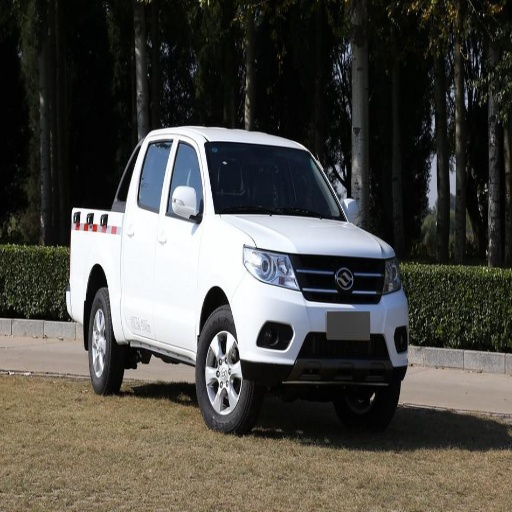back_left_light: (123, 137, 173, 331)
back_right_light: (232, 253, 408, 399)
front_bumper: (205, 142, 345, 217)
front_left_light: (152, 139, 203, 345)
front_right_door: (243, 244, 297, 288)
front_right_light: (226, 215, 394, 255)
tailgate: (72, 224, 116, 305)
trunk: (197, 307, 259, 431), (87, 290, 122, 394), (341, 387, 396, 425)
